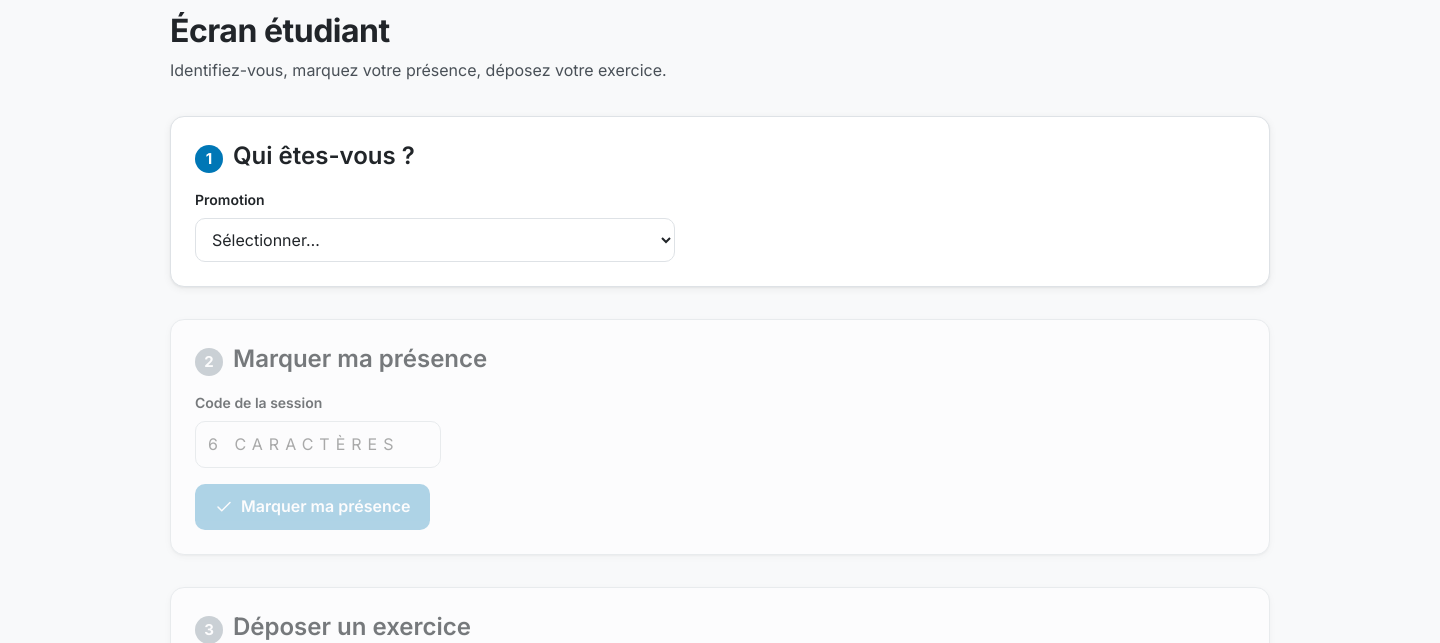
Test case: EtudiantPage › affiche « Le code a expiré. » sur une erreur 410 CODE_EXPIRE
Select "L3 GL" in the dropdown labelled "Promotion" at (435, 240), box [195, 218, 675, 262]
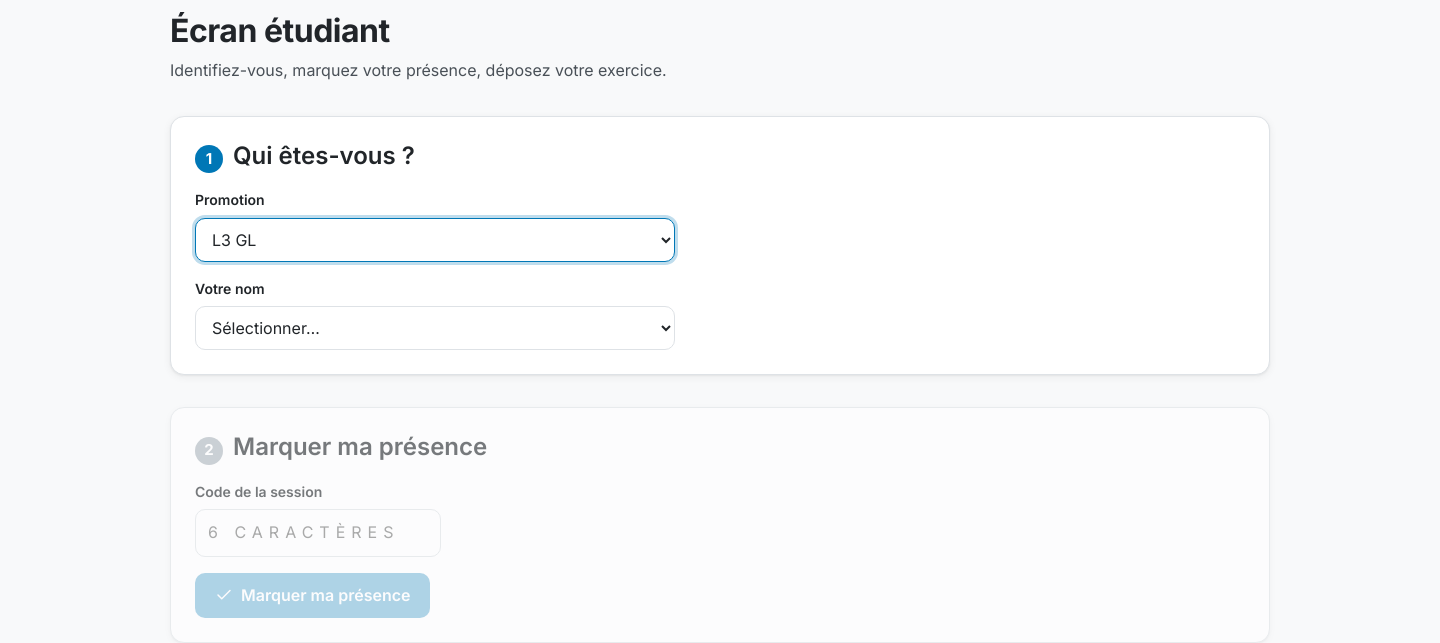
Select "Alice" in the dropdown labelled "Votre nom" at (435, 328), box [195, 306, 675, 350]
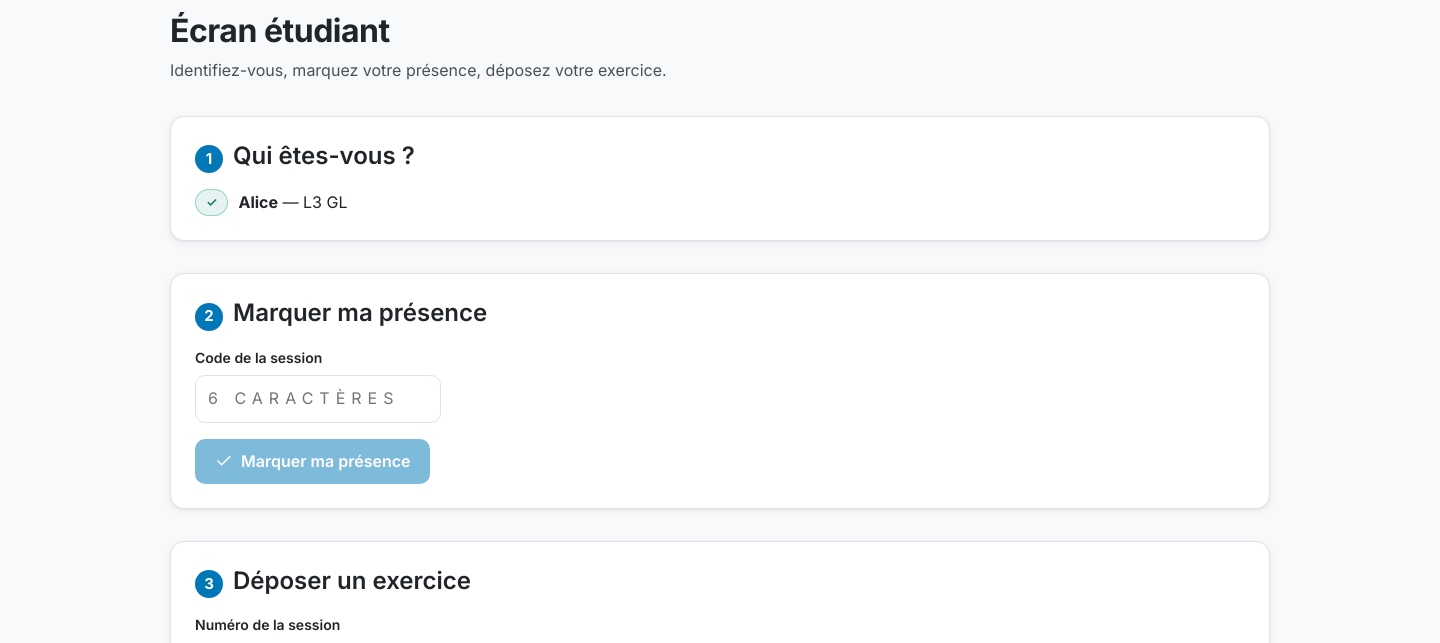
Type "ABC123" into the field labelled "Code de la session" at (318, 399), box [195, 375, 441, 422]
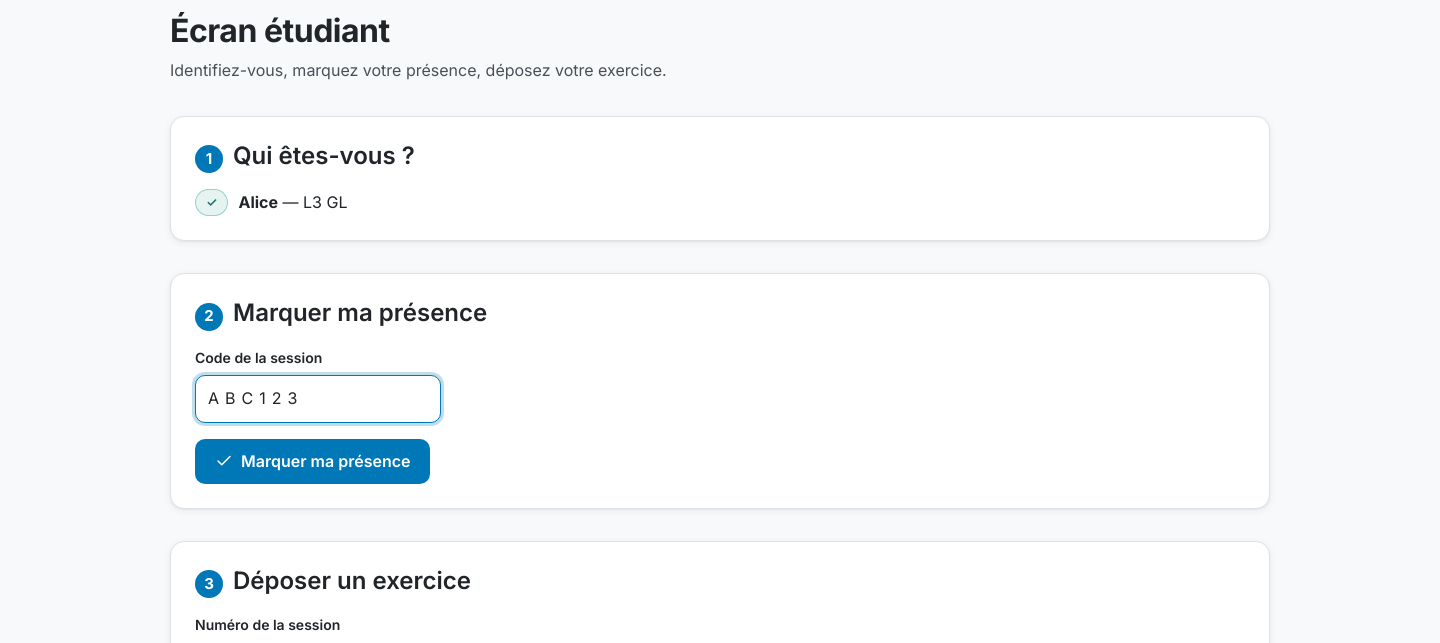
Click the button "Marquer ma présence" at (313, 461), box [195, 438, 430, 484]
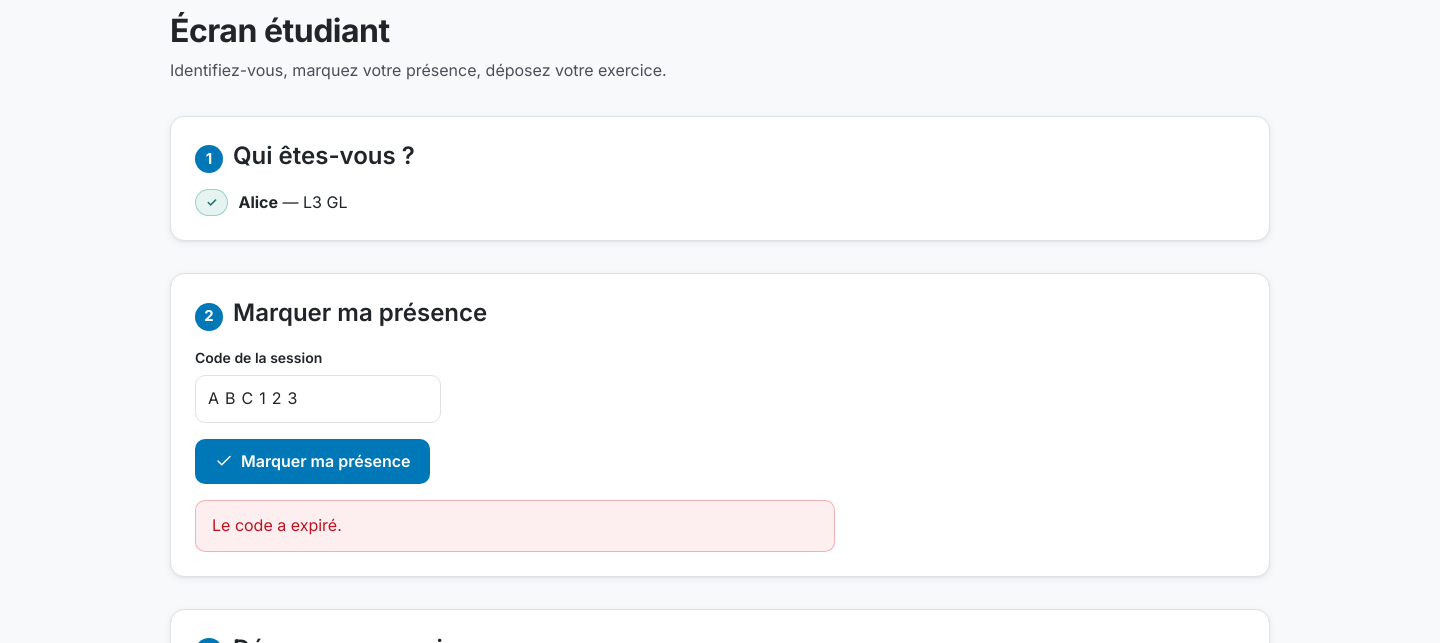
Now the text "Le code a expiré." is shown, box [195, 500, 835, 552]
